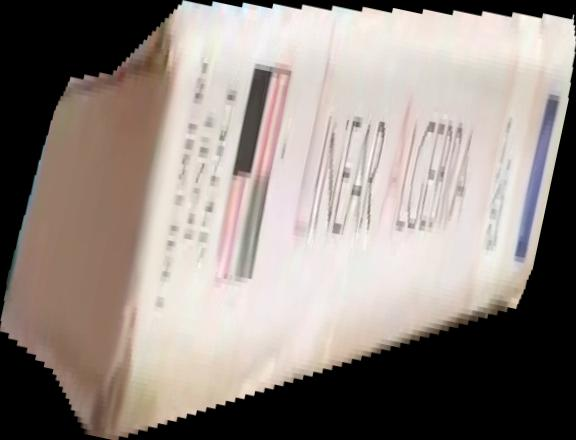flat: (1, 1, 576, 440)
